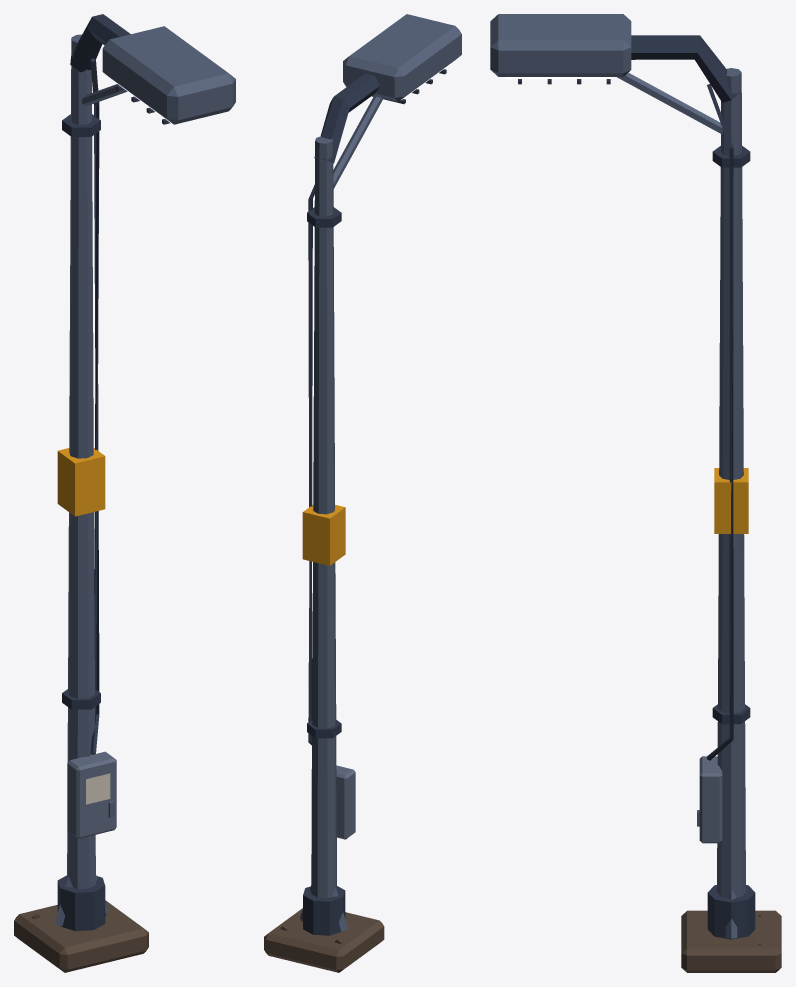
File: city_street_lamp.glb
3 renders of one model, left to right at view 1: azimuth 30°, elevation 25°; view 2: azimuth 150°, elevation 25°; view 3: azimuth 270°, elevation 25°, orthographic. The views are drawn at different scales.
Visible parts, largest first — view 1: pole, head, arm, base, service_box, band, warning; view 2: pole, head, arm, base, band, service_box; view 3: pole, head, arm, base, service_box, band.
Part boxes in pixels (box(x1,y1,x2,y2)): pole: box(67, 34, 95, 888); head: box(54, 26, 235, 926); arm: box(57, 14, 170, 931); base: box(14, 900, 148, 972); service_box: box(67, 751, 116, 838); band: box(57, 448, 105, 516); warning: box(86, 773, 110, 804); pole: box(311, 136, 336, 898); head: box(300, 14, 461, 931); arm: box(303, 69, 446, 935); base: box(264, 908, 384, 972); band: box(302, 504, 345, 565); service_box: box(311, 765, 355, 839); pole: box(717, 68, 745, 897); head: box(490, 14, 737, 938); arm: box(518, 35, 755, 939); base: box(681, 910, 781, 972); service_box: box(699, 756, 722, 843); band: box(714, 468, 748, 533).
Size of the model in its own units: 0.44 by 4.5 by 1.28.
